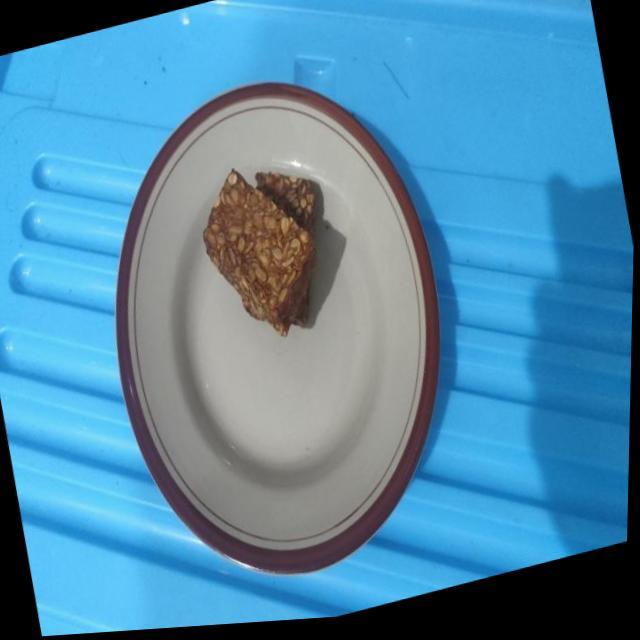tempe_goreng: (204, 170, 316, 336), (256, 171, 316, 236)
